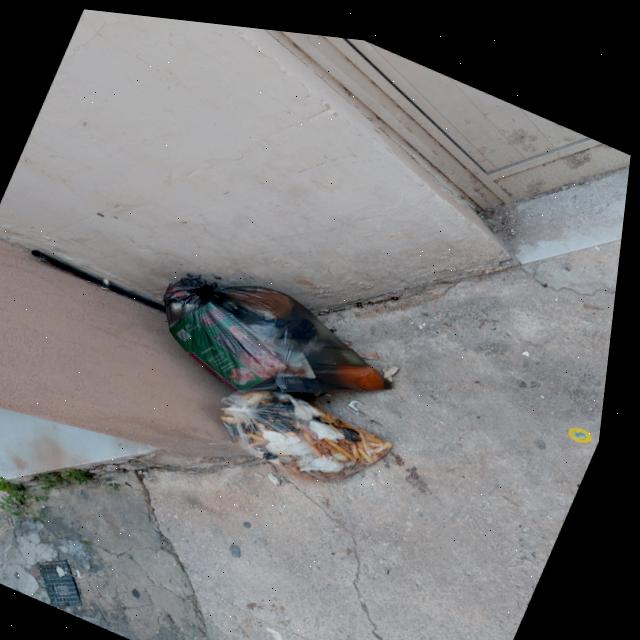Mixed Waste -Black Bag-: (142, 240, 424, 431)
Organic Waste -White Bag-: (214, 362, 410, 499)
